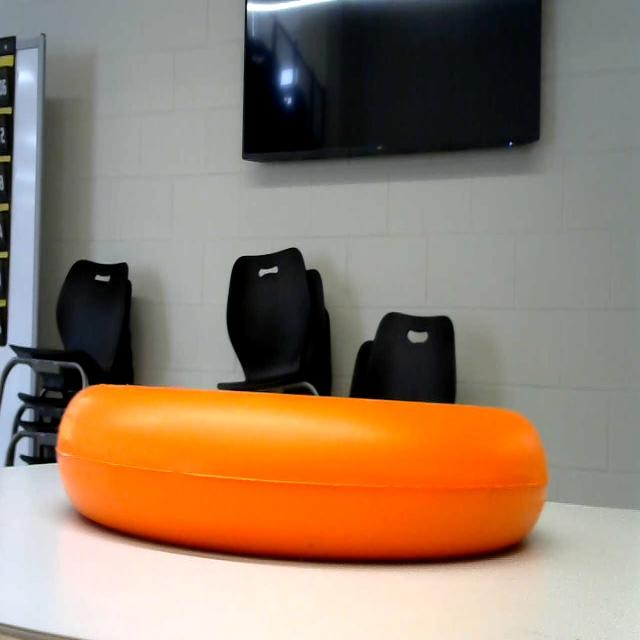note: (54, 362, 554, 582)
